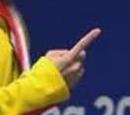up: (42, 24, 102, 91)
